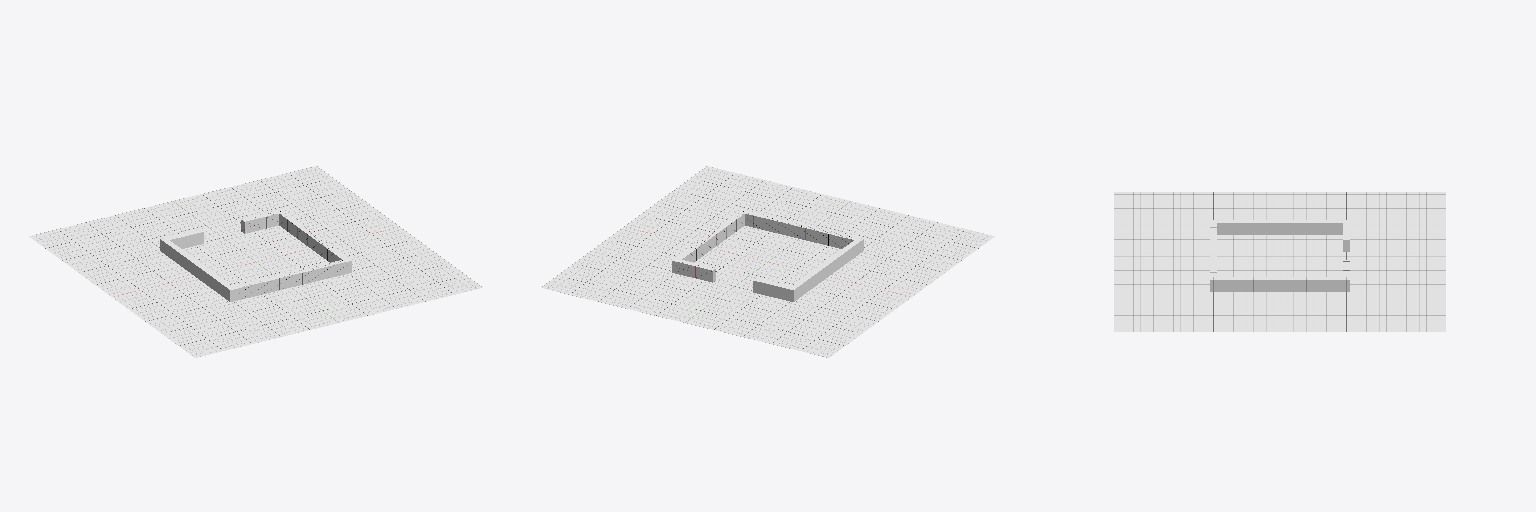
3 views of the same model, side by side, from view 1: azimuth 30°, elevation 25°; view 2: azimuth 150°, elevation 25°; view 3: azimuth 270°, elevation 25° (orthographic).
Visible parts, largest first — view 1: object40, object24, object32, object16, object0; view 2: object40, object24, object32, object16, object0, object8; view 3: object40, object16, object32.
Boxes of the visible parts, x1=… form: object40: x1=29, y1=166, x2=482, y2=357; object24: x1=233, y1=260, x2=345, y2=300; object32: x1=160, y1=238, x2=235, y2=301; object16: x1=276, y1=210, x2=351, y2=273; object0: x1=241, y1=211, x2=278, y2=233; object40: x1=541, y1=166, x2=994, y2=357; object24: x1=745, y1=211, x2=856, y2=248; object32: x1=788, y1=238, x2=863, y2=301; object16: x1=672, y1=210, x2=747, y2=273; object0: x1=678, y1=260, x2=715, y2=282; object8: x1=753, y1=278, x2=790, y2=300; object40: x1=1114, y1=192, x2=1445, y2=331; object16: x1=1210, y1=277, x2=1349, y2=291; object32: x1=1210, y1=220, x2=1349, y2=234.
Bounding box in the file's own units: 50 × 2 × 50.
6 materials, 4 textured.